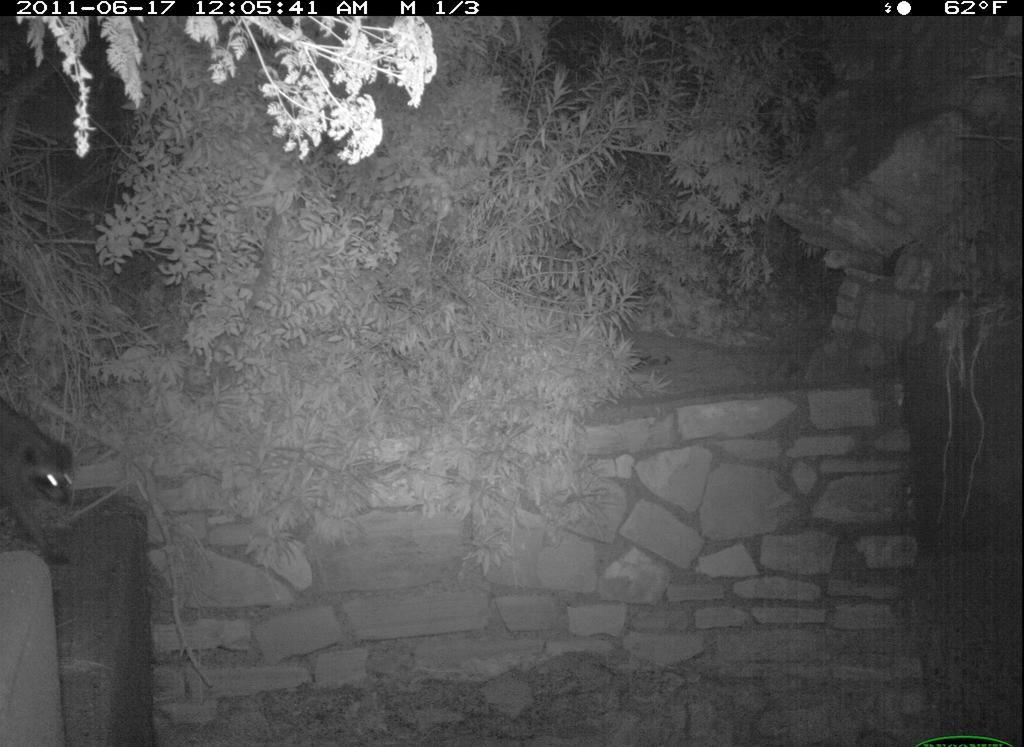raccoon: (1, 397, 89, 562)
